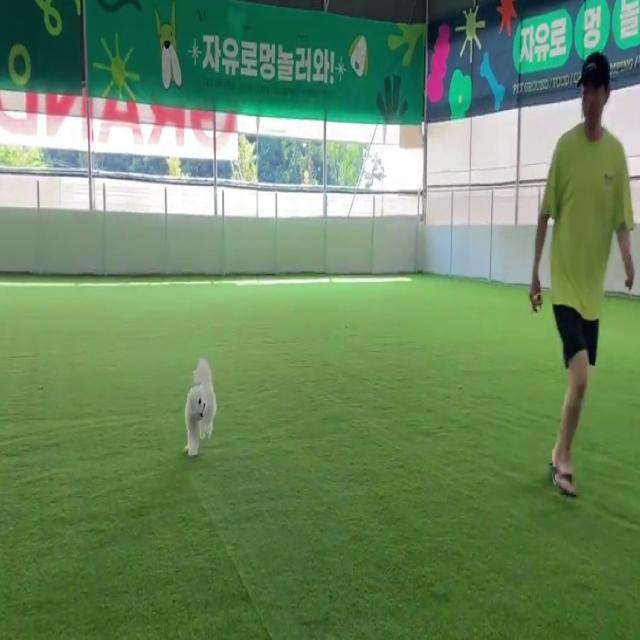Unleashed_Dog: (186, 359, 586, 500)
